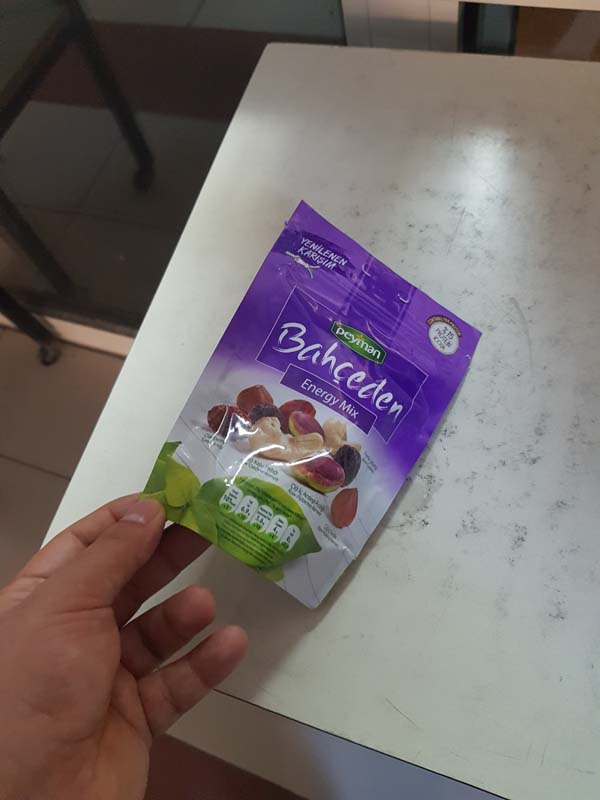bahcedenenergymix: (151, 190, 488, 626)
